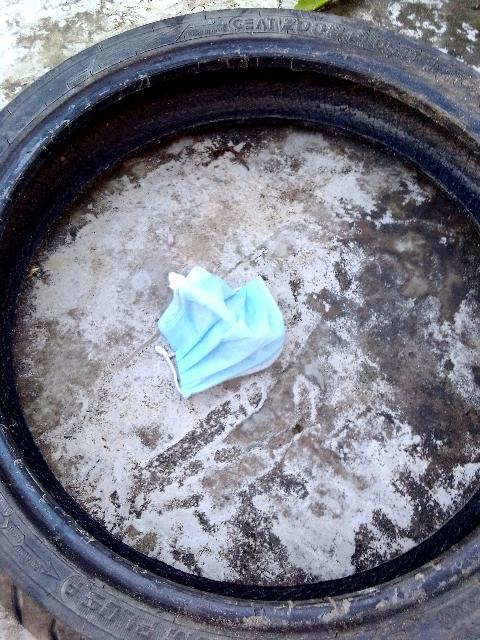mask: (146, 245, 294, 414)
